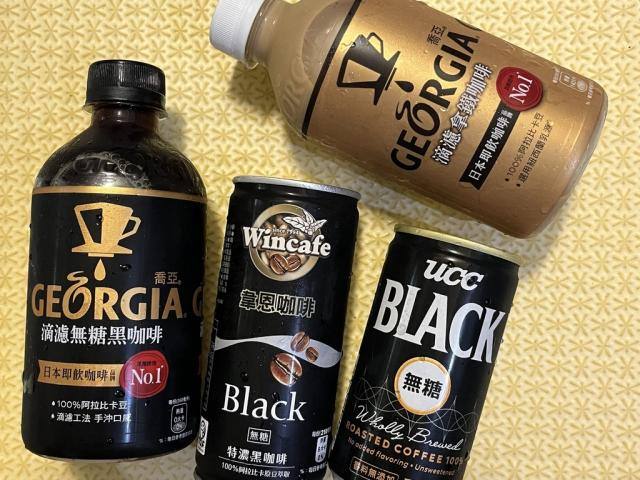Canned_drinks: (195, 176, 360, 479), (329, 225, 521, 479)
